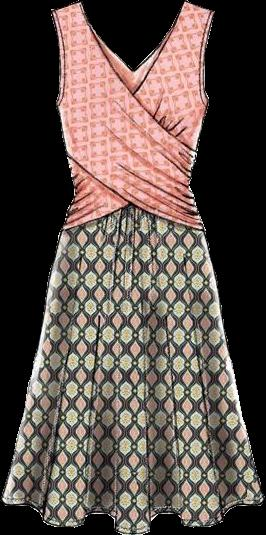Bodice: (51, 2, 214, 231)
Hemline: (0, 495, 264, 534)
Neckline: (78, 2, 189, 95)
Skirt: (2, 204, 263, 534)
Waistline: (57, 201, 203, 234)
